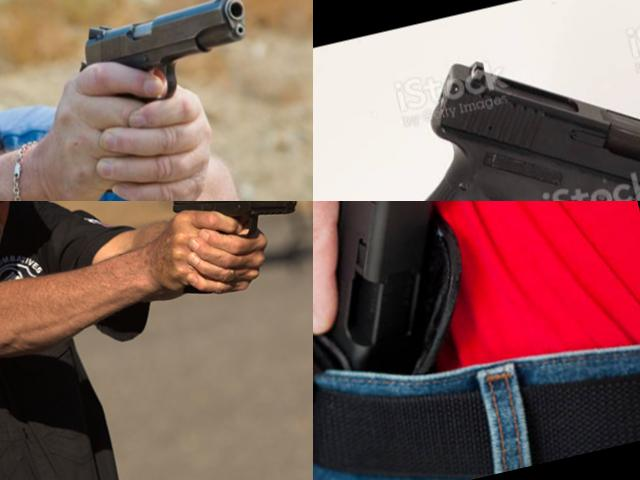handgun: (313, 0, 640, 201), (313, 201, 515, 405), (64, 0, 265, 128), (160, 201, 311, 271)
